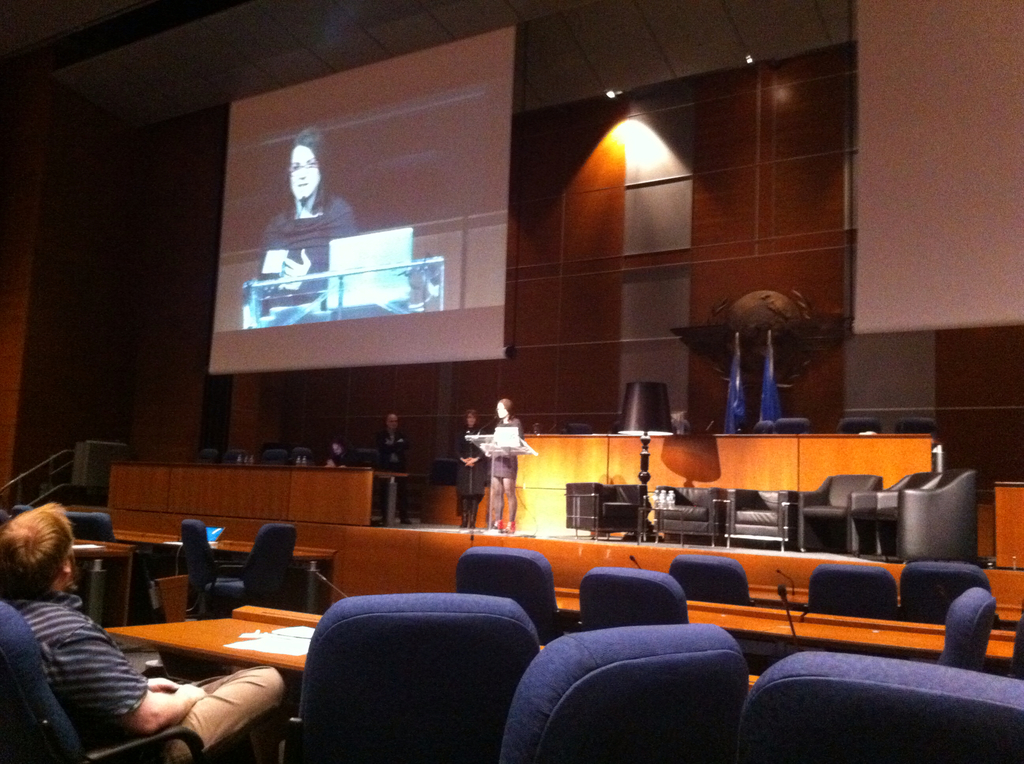Person: (0, 504, 281, 764), (487, 397, 521, 536), (375, 412, 413, 526), (456, 412, 488, 525), (324, 443, 355, 470)
